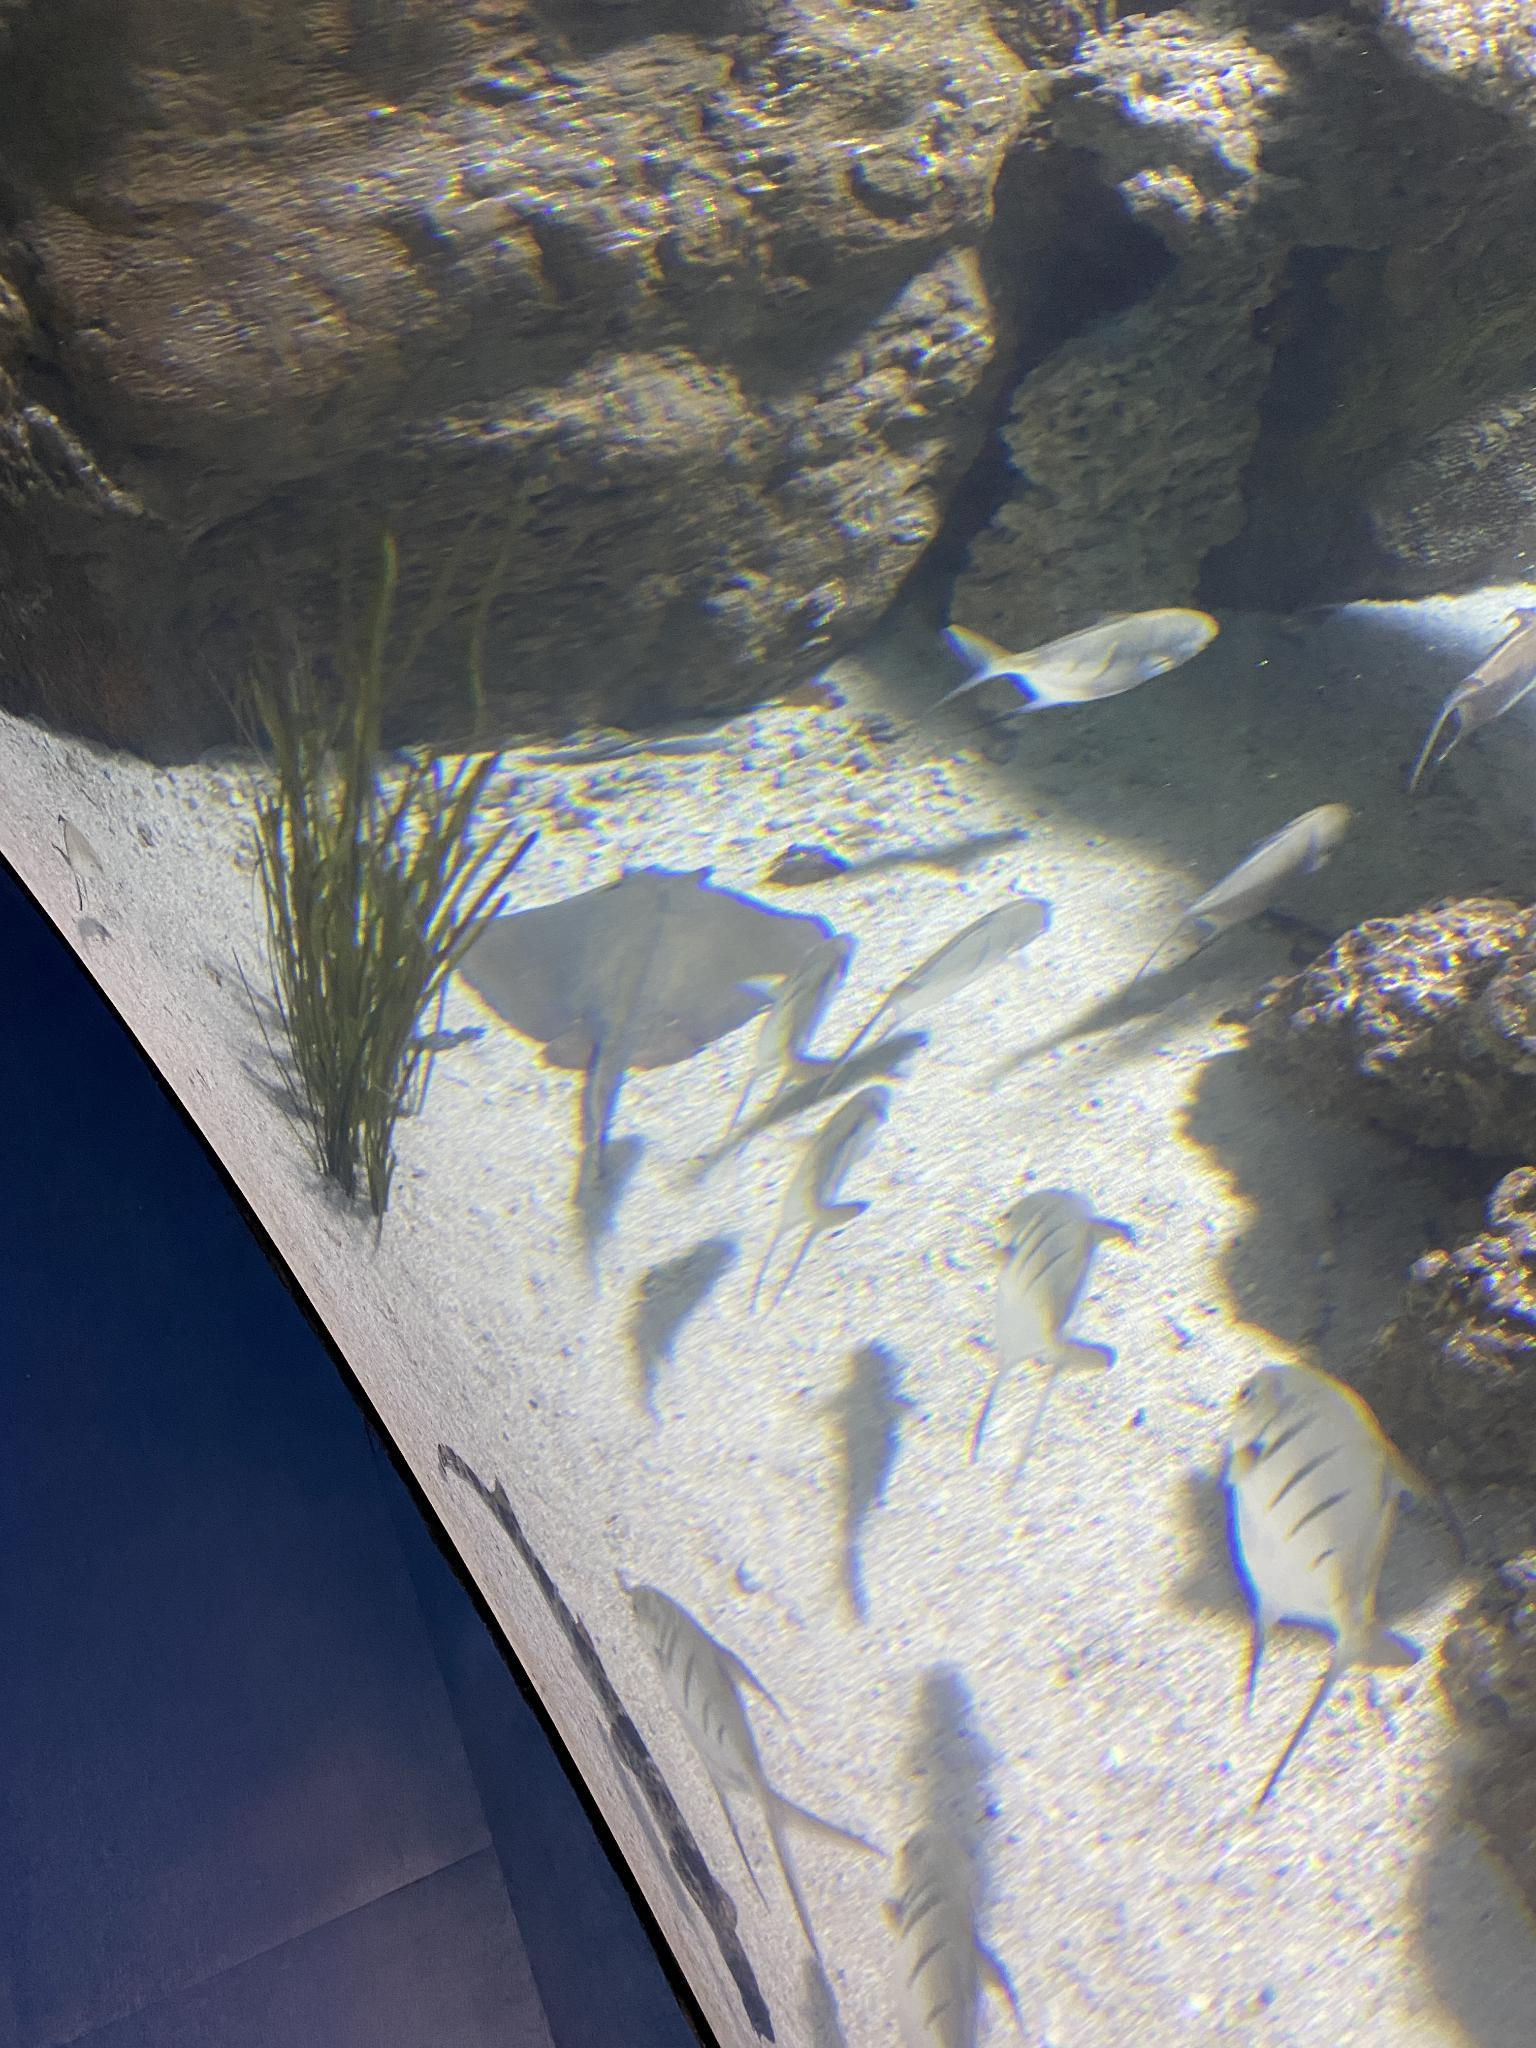fish: (1208, 1361, 1433, 1713), (947, 1182, 1149, 1469), (808, 879, 1058, 1106), (1115, 785, 1354, 1001), (925, 601, 1225, 722), (749, 1072, 895, 1313), (716, 924, 860, 1164), (1412, 598, 1536, 800)
stingray: (437, 860, 826, 1080)
